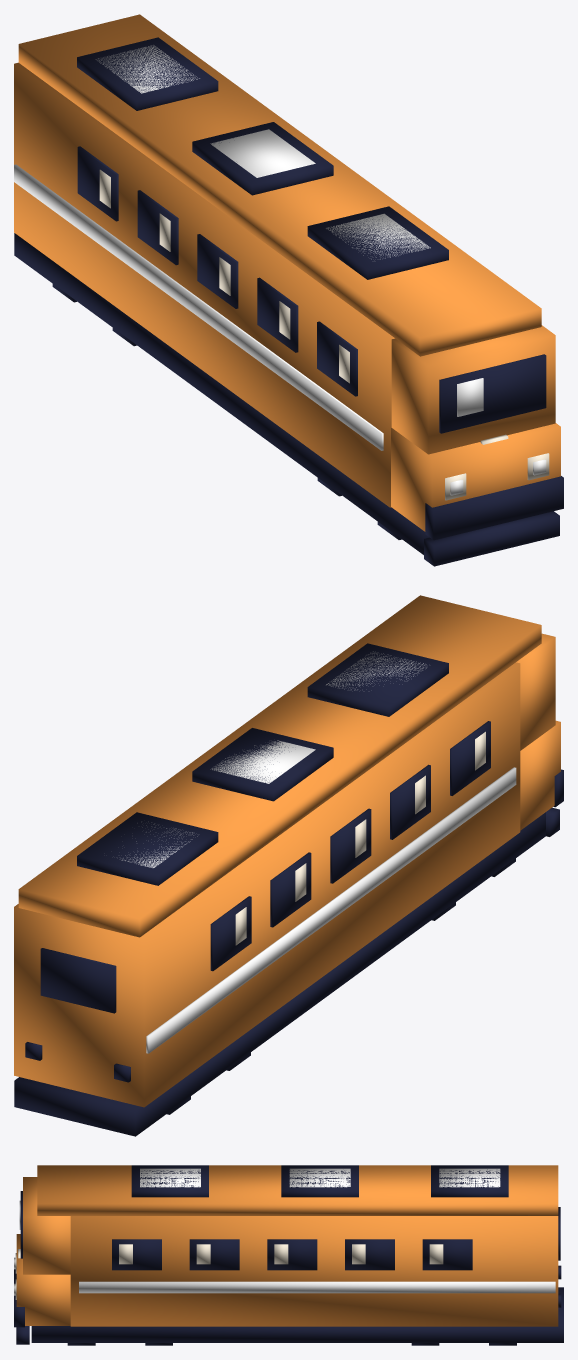
File: train_orange.glb
The picture shows the model from 3 angles, top to bottom: view 1: azimuth 30°, elevation 25°; view 2: azimuth 150°, elevation 25°; view 3: azimuth 270°, elevation 25°; orthographic projection. The views are drawn at different scales.
Visible parts, largest first — view 1: train_orange; view 2: train_orange; view 3: train_orange.
Boxes of the visible parts, box(x1,y1,x2,y2) form: train_orange: box(14, 14, 563, 566); train_orange: box(14, 595, 563, 1136); train_orange: box(14, 1165, 563, 1345).
Size of the model in its own units: 1.84 by 2.97 by 9.92.
